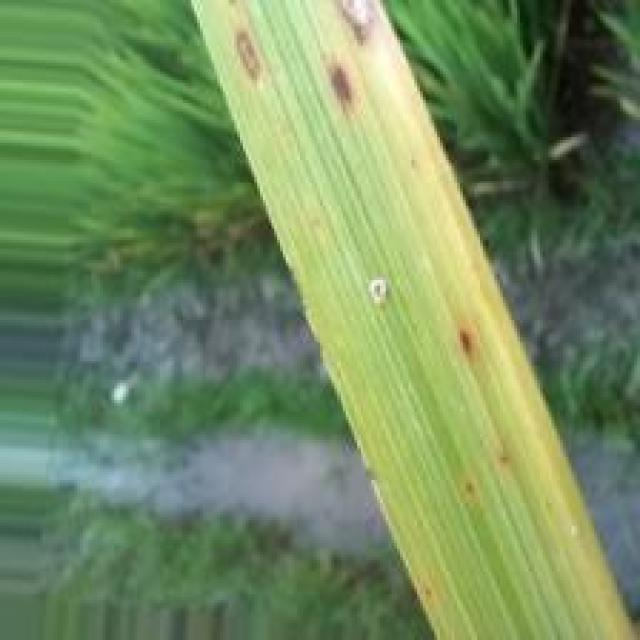Brown_Spot: (329, 59, 357, 111), (455, 324, 475, 358), (460, 473, 475, 503)
